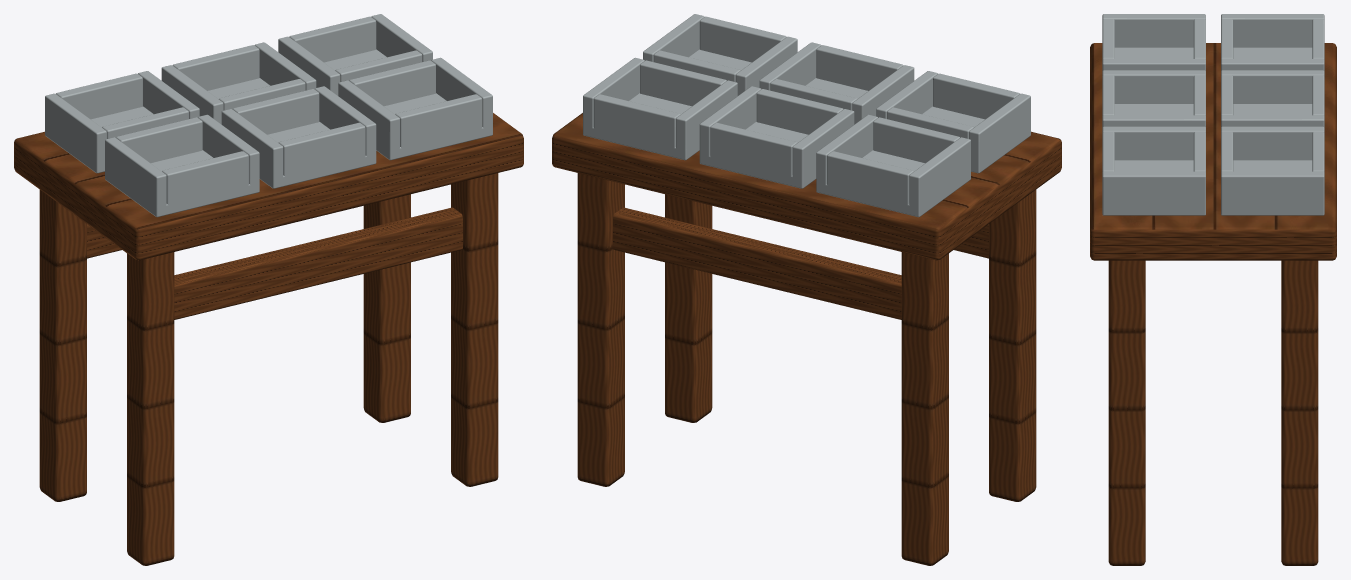
File: salvage-and-repair-workshop-component-sorter-aa6ed7c8__25440.glb
3 renders of one model, left to right at view 1: azimuth 30°, elevation 25°; view 2: azimuth 150°, elevation 25°; view 3: azimuth 270°, elevation 25°, orthographic.
Parts seen in each view (by area): view 1: component-sorter; view 2: component-sorter; view 3: component-sorter.
Part boxes in pixels (x1,y1,x2,y2): component-sorter: (14,14,523,565); component-sorter: (552,14,1061,565); component-sorter: (1090,14,1336,565).
Bounding box in the file's own units: 0.9 × 0.865 × 0.5001.
2 materials, 1 textured.
